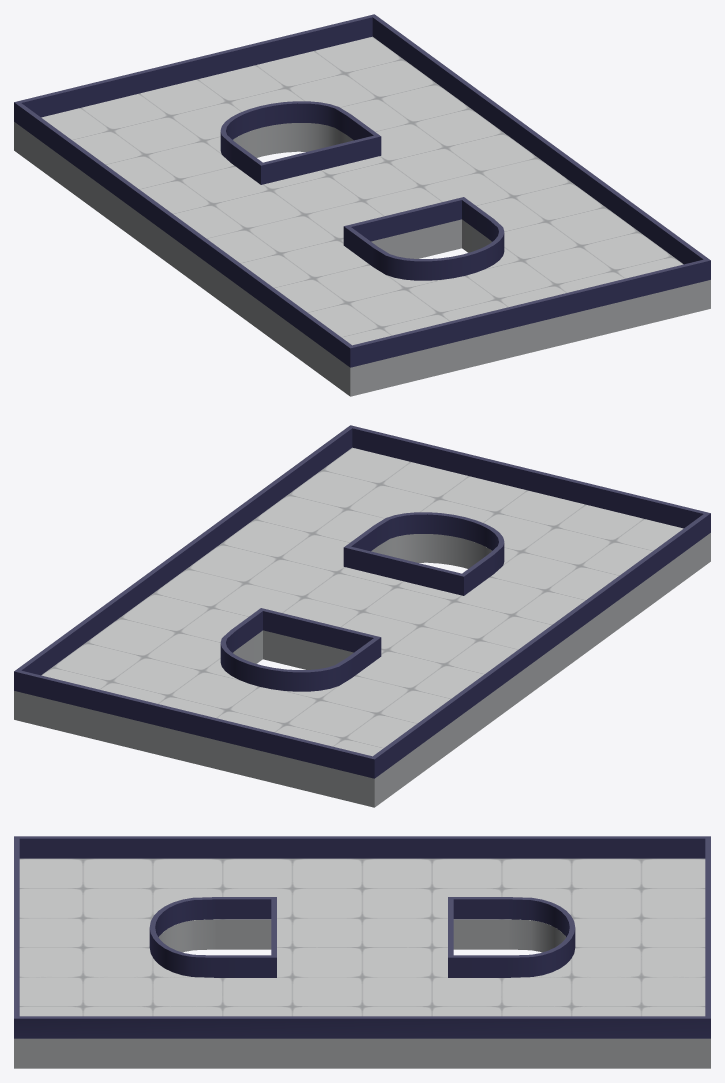
The model's file is single_stage_7.fbx.
3 renders of one model, top to bottom at view 1: azimuth 30°, elevation 25°; view 2: azimuth 150°, elevation 25°; view 3: azimuth 270°, elevation 25°, orthographic. The views are drawn at different scales.
Visible parts, largest first — view 1: Cylinder.031, Cylinder.033, Cylinder.032; view 2: Cylinder.031, Cylinder.033, Cylinder.032; view 3: Cylinder.031, Cylinder.033, Cylinder.032.
Boxes of the visible parts, bbox=[...] form: Cylinder.031: bbox=[14, 36, 710, 396]; Cylinder.033: bbox=[14, 14, 710, 367]; Cylinder.032: bbox=[220, 101, 504, 280]; Cylinder.031: bbox=[14, 447, 710, 807]; Cylinder.033: bbox=[14, 425, 710, 778]; Cylinder.032: bbox=[220, 512, 504, 691]; Cylinder.031: bbox=[14, 858, 710, 1068]; Cylinder.033: bbox=[14, 836, 710, 1038]; Cylinder.032: bbox=[149, 897, 575, 977].
Bounding box in the file's own units: 3903 × 500 × 6306.
